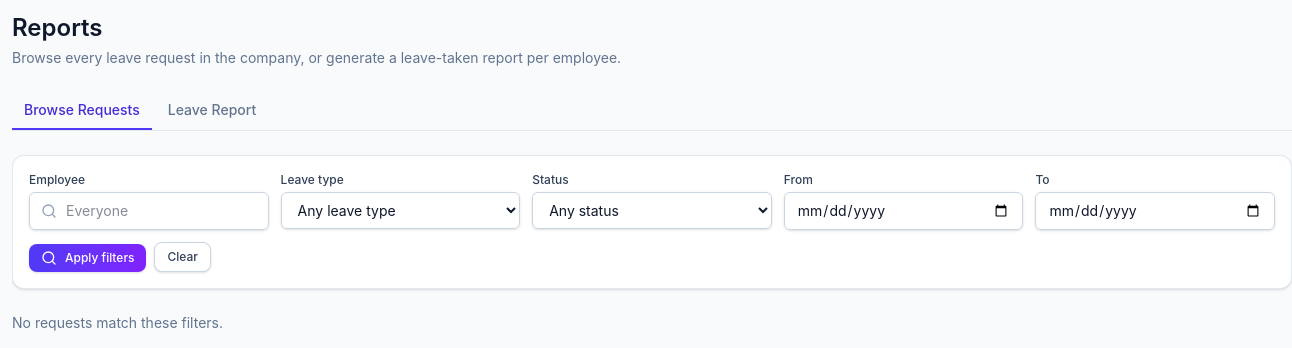
Test: HrReportsPage › Leave Report tab › disables generating a report until both dates are filled in
Click the tab "Leave Report". click: [212, 111]
box: [156,92,268,130]
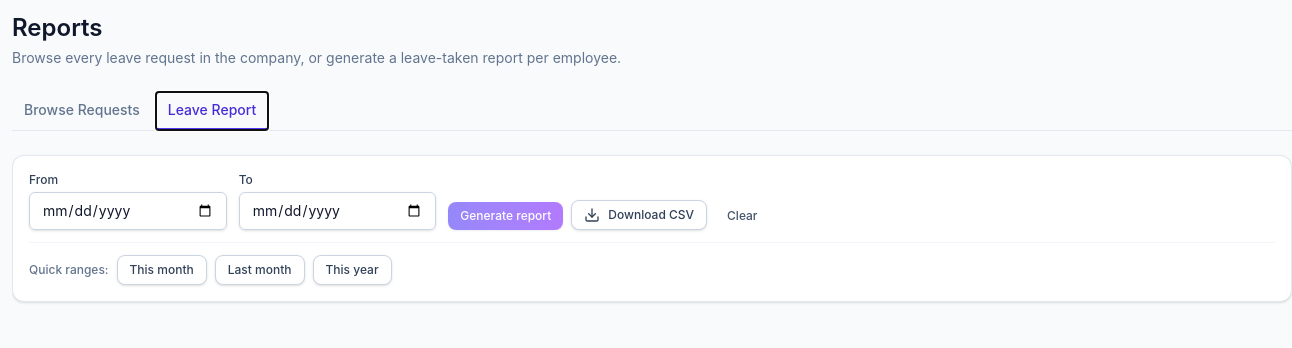
expect the button "Generate report" is disabled: met, box [448,202,563,230]
